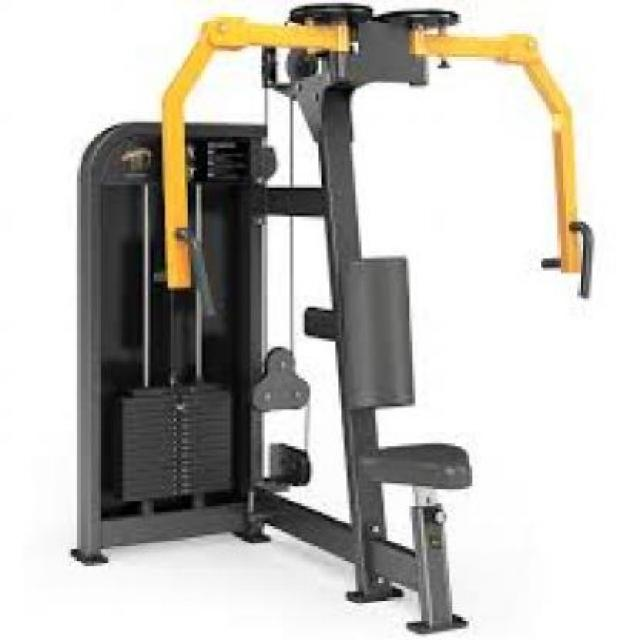chest fly machine: (60, 1, 600, 640)
